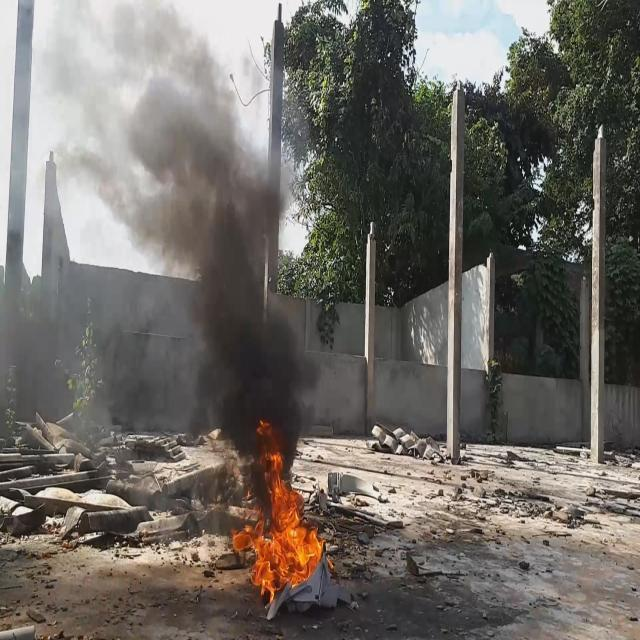Fire: (231, 418, 325, 592)
Smoke: (48, 0, 312, 510)
